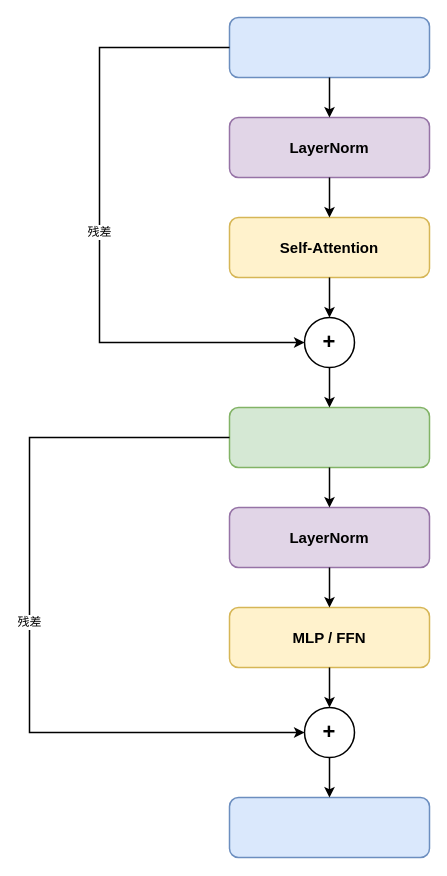
This 447x876 diagram has some shape labels left out. Here are the shapes that lost their labels. From the top down, the centre of each, then its label:
At point (329, 47): "H_l".
At point (329, 437): "H_l'".
At point (329, 827): "H_l+1".
